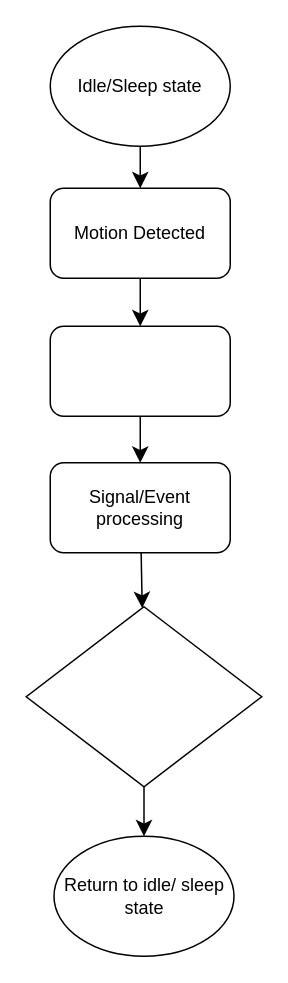
Some shapes in this 288 by 983 pixel diagram are drawn without their labels. Here are the shapes that lost their labels. From the top down, the centre of each, then its label:
[139,370]: QPG6200L
[143,696]: Actions/Alerts through Thread, Zigbee, or Matter
